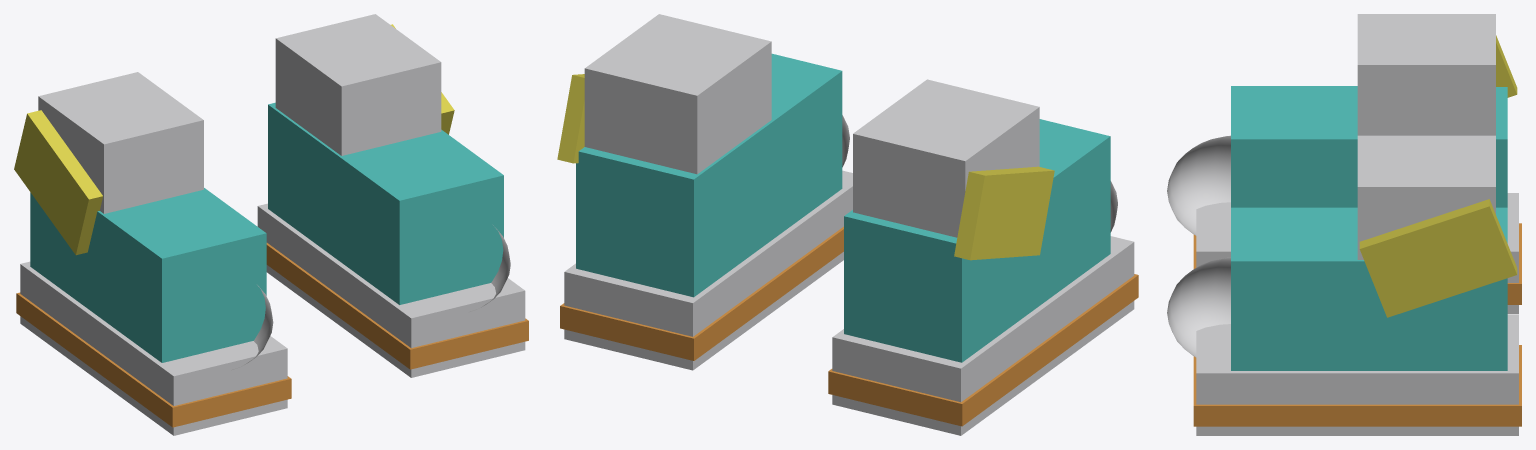
Rendered from 04_super_sneakers.glb.
3 views of the same model, side by side, from view 1: azimuth 30°, elevation 25°; view 2: azimuth 150°, elevation 25°; view 3: azimuth 270°, elevation 25° (orthographic). The views are drawn at different scales.
Visible parts, largest first — view 1: SuperSneakers; view 2: SuperSneakers; view 3: SuperSneakers.
Part boxes in pixels (<box>): SuperSneakers: <box>14,14,528,435</box>; SuperSneakers: <box>557,14,1138,435</box>; SuperSneakers: <box>1167,14,1521,435</box>.
Size of the model in its own units: 0.77 by 0.47 by 0.616.
